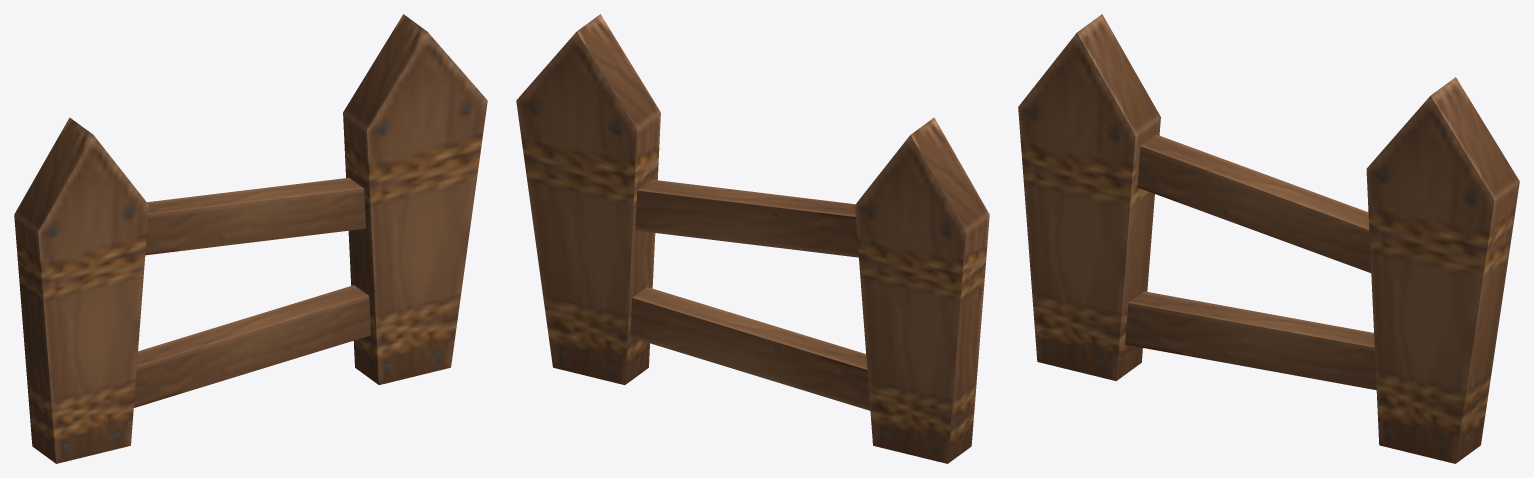
Rendered from fence_8.FBX.
3 renders of one model, left to right at view 1: azimuth 30°, elevation 25°; view 2: azimuth 150°, elevation 25°; view 3: azimuth 330°, elevation 25°, orthographic. The views are drawn at different scales.
Parts seen in each view (by area): view 1: fence_009; view 2: fence_009; view 3: fence_009.
Part boxes in pixels (<box>): fence_009: <box>14,14,487,463</box>; fence_009: <box>516,14,989,463</box>; fence_009: <box>1018,14,1519,463</box>.
Size of the model in its own units: 32.77 by 3.03 by 23.81.
